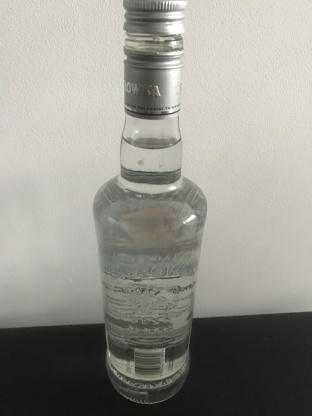nakretka: (120, 0, 187, 121)
